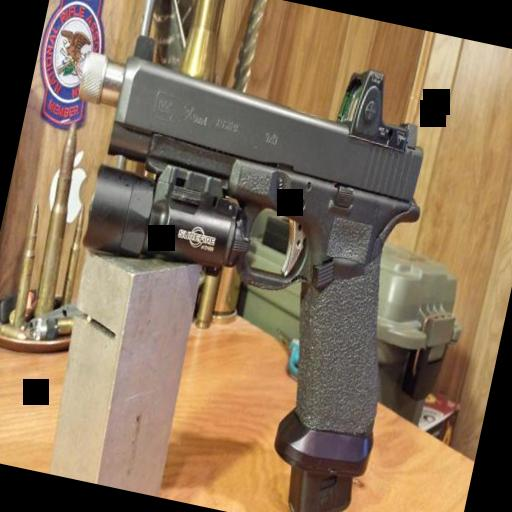Handgun: (37, 8, 449, 512)
